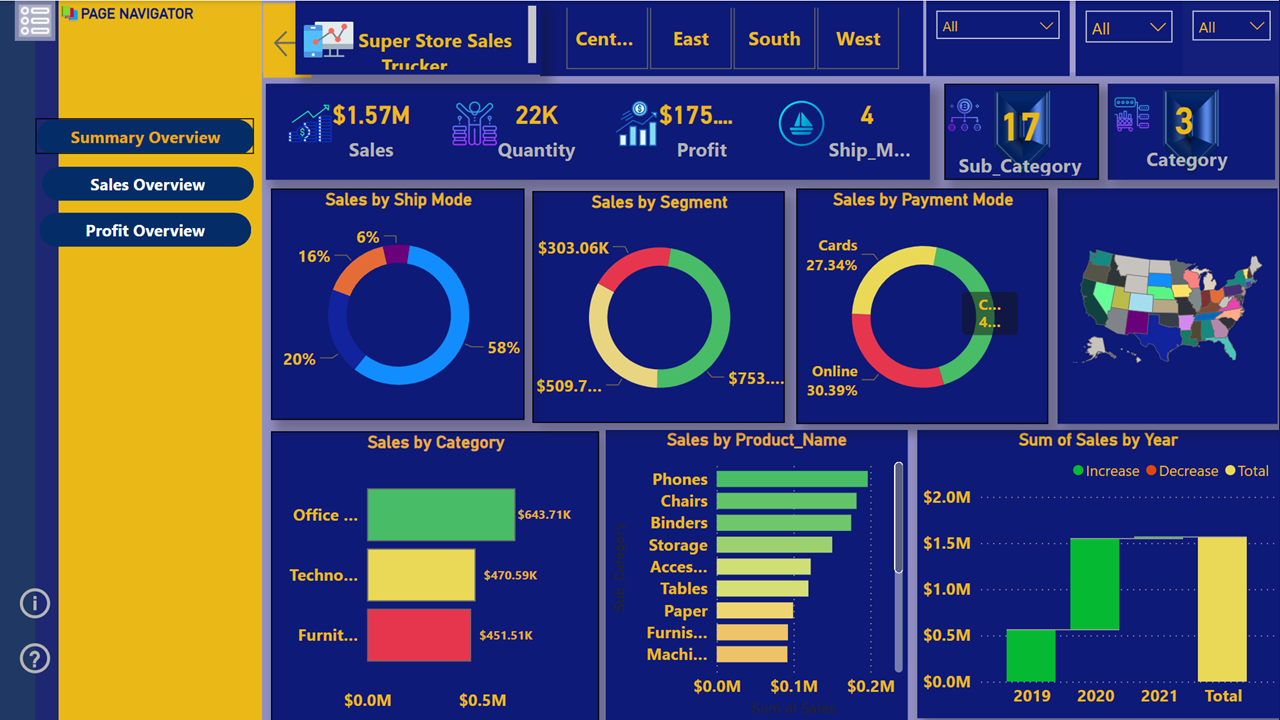

Layout of this report page (visuals, bound fields, positions):
{"tool":"powerbi","page":{"name":"Summary Overview","canvas":[1280,720],"ordinal":1},"visuals":[{"type":"group","id":"g1","title":"Menu Objects","box":[36.6,0,1227.9,717.3],"z":0},{"type":"group","id":"g2","title":"Menu Bar","box":[16.5,0,40,673],"z":1000},{"type":"actionButton","title":"Qs","box":[16.5,633.1,39.8,39.8],"z":6125,"group":"g2"},{"type":"actionButton","title":"Info","box":[16.5,579.6,39.8,39.8],"z":6250,"group":"g2"},{"type":"actionButton","title":"Menu","box":[16.5,0,40,40],"z":6500,"group":"g2"},{"type":"actionButton","title":"Close Button","box":[261.2,2.9,47.5,74.2],"z":8000,"group":"g1"},{"type":"shape","title":"📚PAGE NAVIGATOR","box":[59.2,0,200.5,717.2],"z":9000,"group":"g1"},{"type":"actionButton","title":"Profit","box":[40.7,210.9,209.2,34],"z":10000,"group":"g1"},{"type":"actionButton","title":"Sales","box":[42.7,165.2,209.2,34],"z":12000,"group":"g1"},{"type":"waterfallChart","title":"Sum of Sales by Year","fields":{"Y":["Sum(SuperStore_Sales.Sales)"],"Category":["SuperStore_Sales.Ship_Date.Variation.Date Hierarchy.Year"]},"box":[906.6,427.3,357.3,286.3],"z":12156,"group":"g1"},{"type":"clusteredBarChart","title":"Sales by Category ","fields":{"Category":["SuperStore_Sales.Category"],"Y":["Sum(SuperStore_Sales.Sales)"]},"box":[269.3,427.4,323.6,288.1],"z":12312,"group":"g1"},{"type":"clusteredBarChart","title":"Sales by Product_Name","fields":{"Category":["SuperStore_Sales.Sub_Category"],"Y":["Sum(SuperStore_Sales.Sales)"]},"box":[598.8,427.3,298.1,289.5],"z":12343,"group":"g1"},{"type":"shapeMap","fields":{"Category":["SuperStore_Sales.State"],"Value":["CountNonNull(SuperStore_Sales.City)"],"Series":["SuperStore_Sales.City Hierarchy.City"]},"box":[1044.5,186.3,217.1,234.2],"z":12351,"group":"g1"},{"type":"donutChart","title":"Sales by Payment Mode","fields":{"Category":["SuperStore_Sales.Payment_Mode"],"Y":["Sum(SuperStore_Sales.Sales)"]},"box":[786.7,186.3,248.6,234.2],"z":12359,"group":"g1"},{"type":"pieChart","title":"Sales by Segment","fields":{"Y":["Sum(SuperStore_Sales.Sales)"],"Category":["SuperStore_Sales.Segment"]},"box":[527.1,188.7,249.2,230.6],"z":12375,"group":"g1"},{"type":"donutChart","title":"Sales by Ship Mode","fields":{"Y":["Sum(SuperStore_Sales.Sales)"],"Category":["SuperStore_Sales.Ship_Mode"]},"box":[269.5,186.1,250,230],"z":12625,"group":"g1"},{"type":"image","title":"Image-Cat","box":[1094.1,83.1,164.8,95.6],"z":12750,"group":"g1"},{"type":"card","title":"Category","fields":{"Values":["Count(SuperStore_Sales.Category)"]},"box":[1095.5,78.8,148.7,98.7],"z":13000,"group":"g1"},{"type":"image","box":[1095.3,89.8,44.9,46.4],"z":13375,"group":"g1"},{"type":"image","title":"Image-Sub Cat","box":[933.4,83.1,152.4,95.6],"z":13750,"group":"g1"},{"type":"card","title":"Sub Category","fields":{"Values":["Count(SuperStore_Sales.Sub_Category)"]},"box":[933.4,88.7,149.6,90],"z":14500,"group":"g1"},{"type":"image","box":[923.5,89.8,60.4,46.4],"z":14875,"group":"g1"},{"type":"cardVisual","title":"Sales-All","fields":{"Data":["Sum(SuperStore_Sales.Sales)","Sum(SuperStore_Sales.Quantity)","Sum(SuperStore_Sales.Profit)","Count(SuperStore_Sales.Ship_Mode)"]},"box":[264.3,83.1,655.2,95.6],"z":15250,"group":"g1"},{"type":"slicer","title":"Payment Mode","fields":{"Values":["SuperStore_Sales.Payment_Mode"]},"box":[1167.5,0,97,74.8],"z":18000,"group":"g1"},{"type":"slicer","title":"Year","fields":{"Values":["SuperStore_Sales.Ship_Date.Variation.Date Hierarchy.Year","SuperStore_Sales.Ship_Date.Variation.Date Hierarchy.Quarter","SuperStore_Sales.Ship_Date.Variation.Date Hierarchy.Month","SuperStore_Sales.Ship_Date.Variation.Date Hierarchy.Day"]},"box":[1062.2,0,105.3,74.8],"z":19000,"group":"g1"},{"type":"slicer","title":"Month","fields":{"Values":["SuperStore_Sales.Ship_Month_Name"]},"box":[915.4,0,141.3,74.8],"z":20000,"group":"g1"},{"type":"slicer","title":"Region","fields":{"Values":["SuperStore_Sales.Region"]},"box":[534.4,0,378.2,74.8],"z":21000,"group":"g1"},{"type":"textbox","title":"Store","box":[292.6,0,242.5,73.7],"z":22000,"group":"g1"},{"type":"image","title":"Image-Store","box":[295.4,2.7,60.4,72.8],"z":23000,"group":"g1"},{"type":"actionButton","title":"Summary","box":[36.6,116.2,215.5,35.7],"z":24500,"group":"g1"}]}

Visuals, with their boxes in screenshot pixels (x1, y1, x2, y2), scaled from the page's 1280x720 canvas onto the 1280x720 screenshot:
"Menu Objects" group: detection(37, 0, 1264, 717)
"Menu Bar" group: detection(16, 0, 56, 673)
"Qs" actionButton: detection(16, 633, 56, 673)
"Info" actionButton: detection(16, 580, 56, 619)
"Menu" actionButton: detection(16, 0, 56, 40)
"Close Button" actionButton: detection(261, 3, 309, 77)
"📚PAGE NAVIGATOR" shape: detection(59, 0, 260, 717)
"Profit" actionButton: detection(41, 211, 250, 245)
"Sales" actionButton: detection(43, 165, 252, 199)
"Sum of Sales by Year" waterfallChart: detection(907, 427, 1264, 714)
"Sales by Category " clusteredBarChart: detection(269, 427, 593, 716)
"Sales by Product_Name" clusteredBarChart: detection(599, 427, 897, 717)
shapeMap - SuperStore_Sales.State x CountNonNull(SuperStore_Sales.City): detection(1044, 186, 1262, 420)
"Sales by Payment Mode" donutChart: detection(787, 186, 1035, 420)
"Sales by Segment" pieChart: detection(527, 189, 776, 419)
"Sales by Ship Mode" donutChart: detection(270, 186, 520, 416)
"Image-Cat" image: detection(1094, 83, 1259, 179)
"Category" card: detection(1096, 79, 1244, 178)
image: detection(1095, 90, 1140, 136)
"Image-Sub Cat" image: detection(933, 83, 1086, 179)
"Sub Category" card: detection(933, 89, 1083, 179)
image: detection(924, 90, 984, 136)
"Sales-All" cardVisual: detection(264, 83, 920, 179)
"Payment Mode" slicer: detection(1168, 0, 1264, 75)
"Year" slicer: detection(1062, 0, 1168, 75)
"Month" slicer: detection(915, 0, 1057, 75)
"Region" slicer: detection(534, 0, 913, 75)
"Store" textbox: detection(293, 0, 535, 74)
"Image-Store" image: detection(295, 3, 356, 76)
"Summary" actionButton: detection(37, 116, 252, 152)
